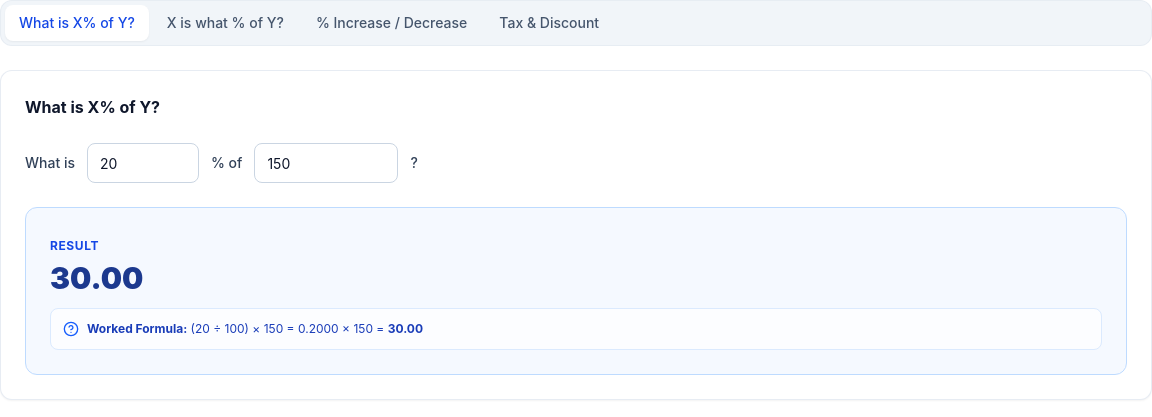
Test: CALCULATOR TOOLS (4/4) › Percentage Calculator › protects against zero initial value in percentage increase/decrease
This screenshot has width=1152, height=417.
Click the tab "% Increase / Decrease": x=392, y=23 [302,5,481,41]
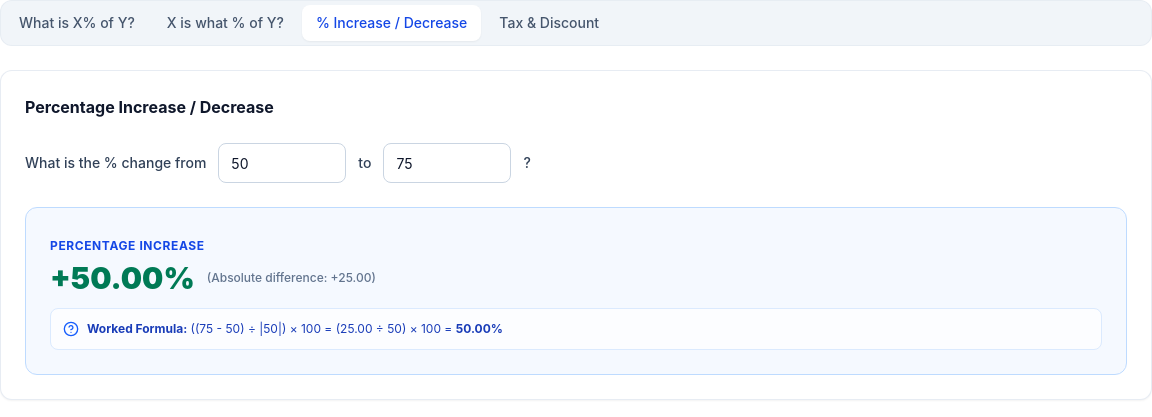
Now the text "+50.00%" is shown, box [50,260,195,296]
Set initial value A to 0
Replace the text in the number field named "Initial value A" with "0": x=282, y=163 [218,143,346,183]
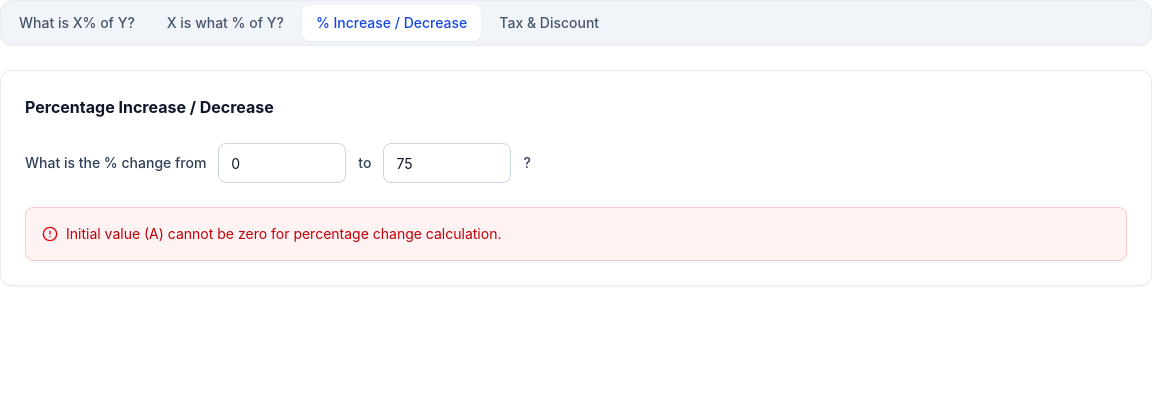
Now the text "Initial value (A) cannot be zero" is shown, box [66,225,502,242]
